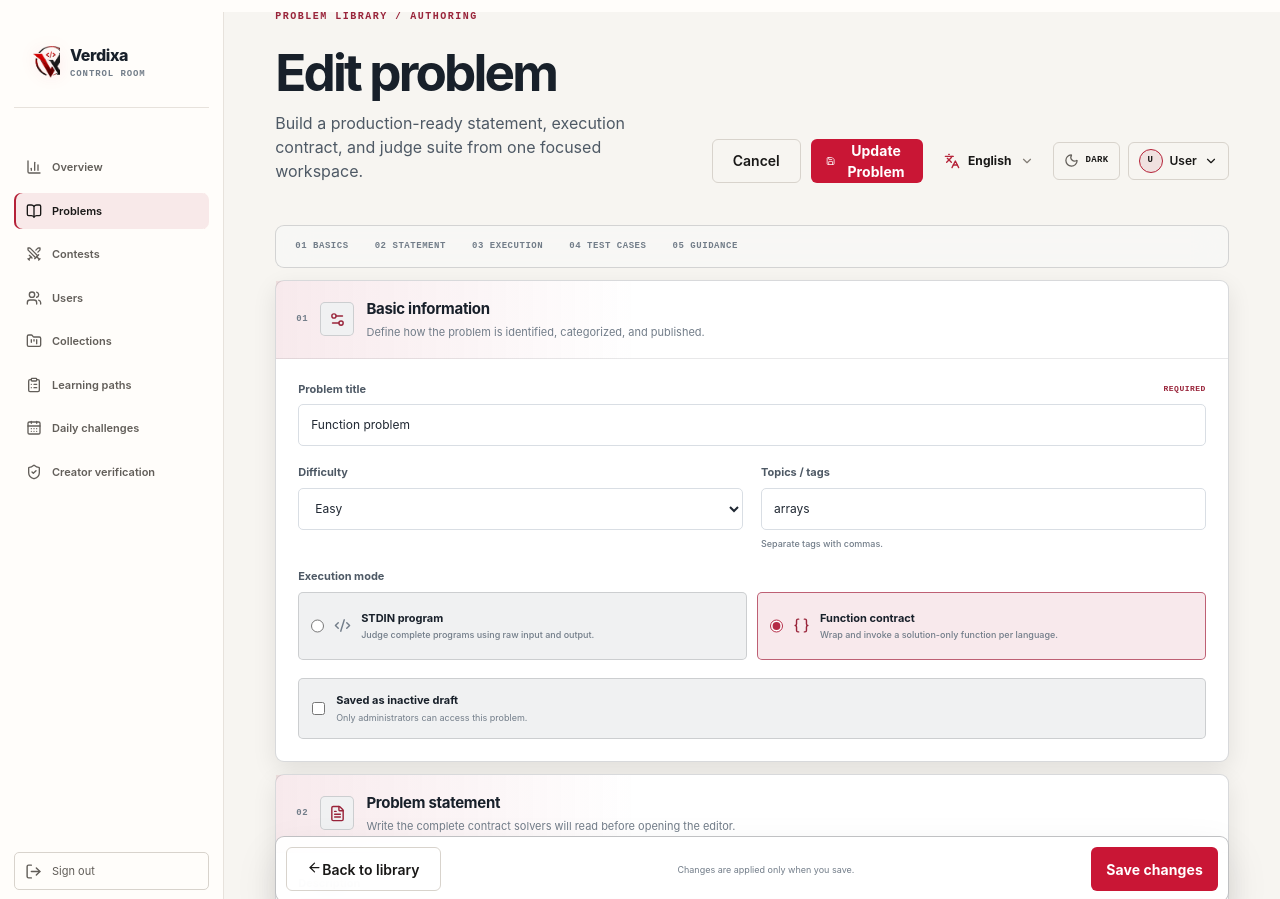
Scenario: admin update submits FUNCTION parameters and reports success inline
The width and height of the screenshot is (1280, 899).
Check: the field showing "Function problem" is shown, box [298, 404, 1206, 446]
Click the button "Update Problem".
click(867, 161)  # box [811, 139, 923, 183]
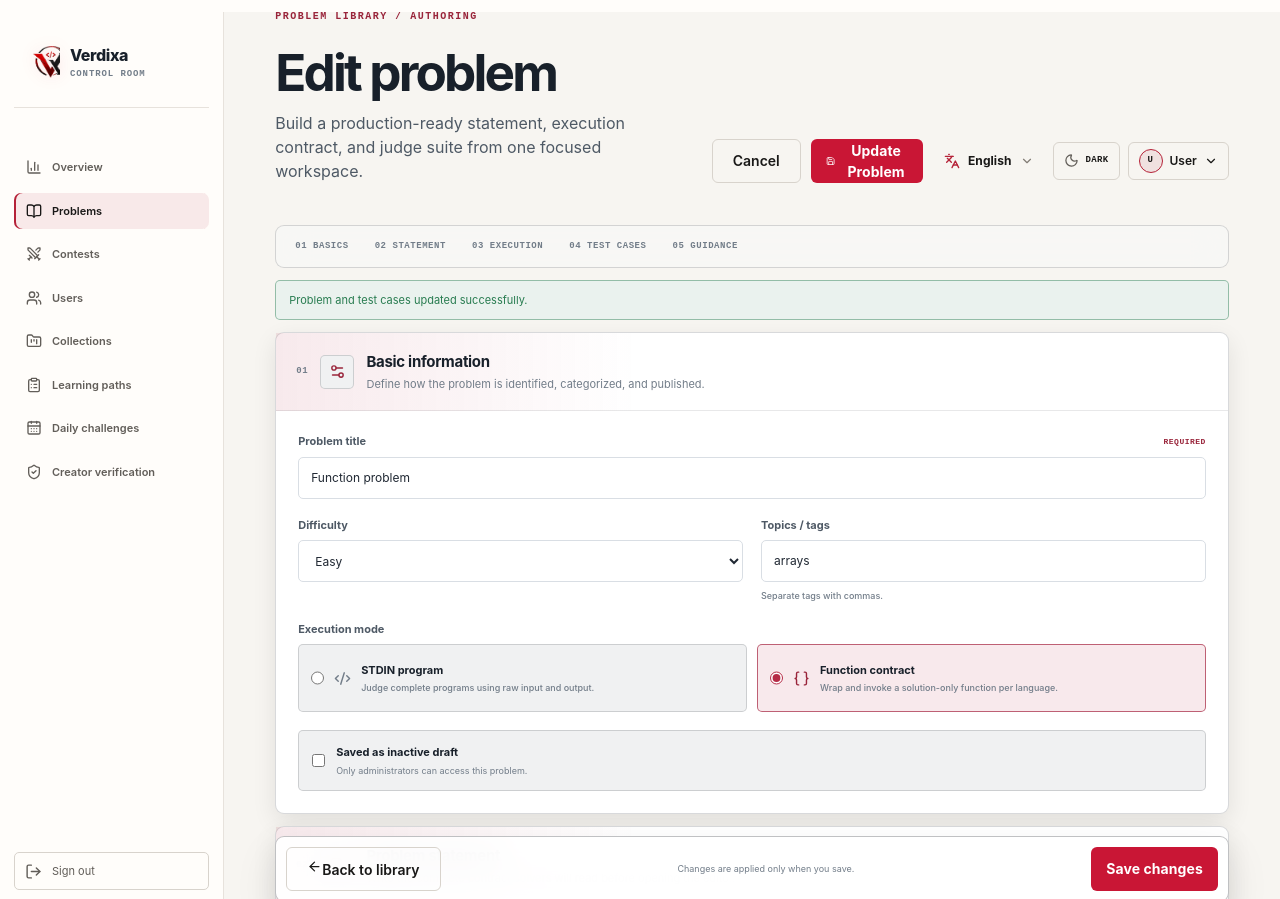
Check: the message shows "updated successfully", box [289, 293, 528, 307]
